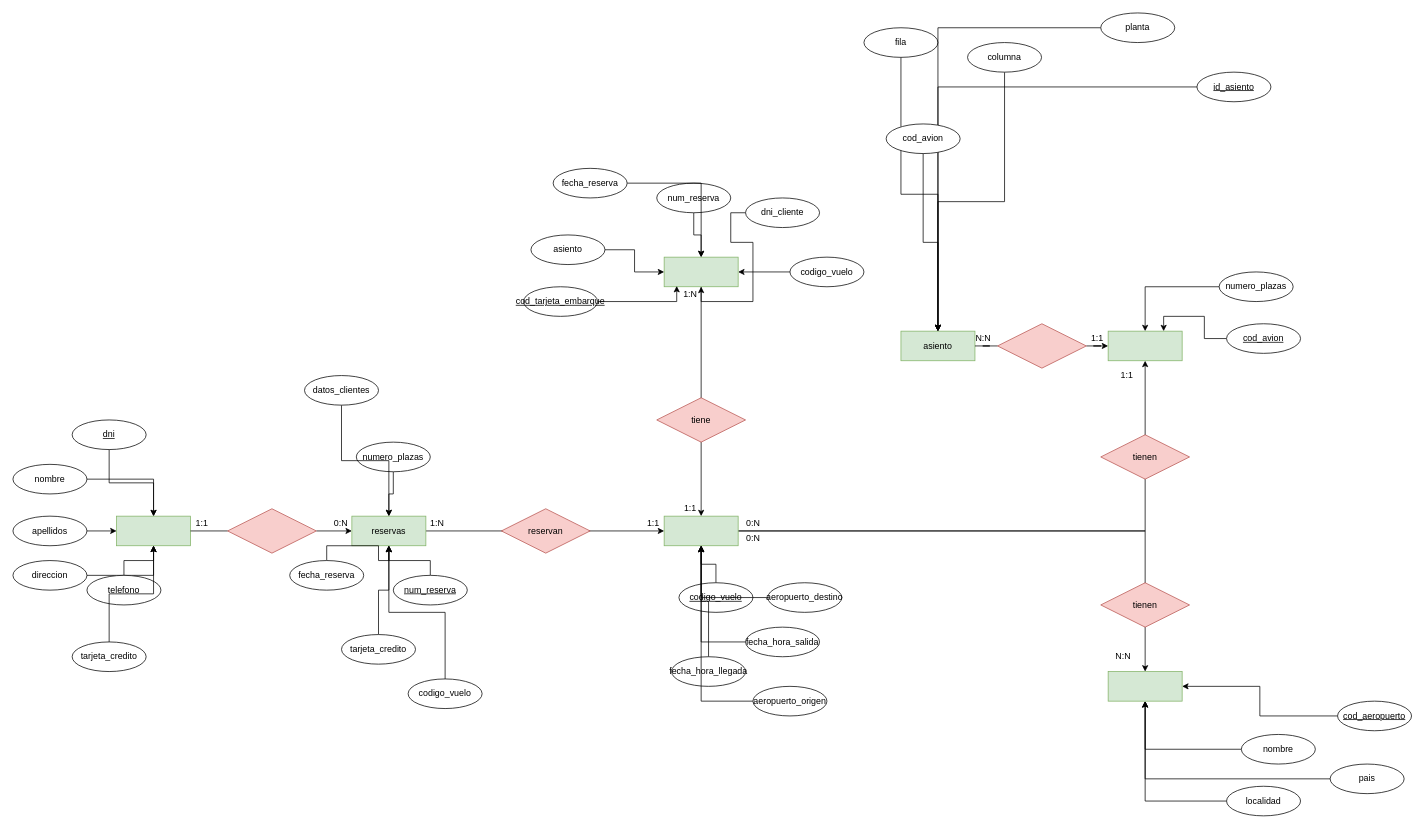
This 1425x829 diagram has some shape labels left out. The shapes that lost their labels are listed below. From the top down, each one's centre as x and y in pixels, then its label:
At (x=700, y=271): "tarjeta de embarque".
At (x=1041, y=345): "pertenece".
At (x=1144, y=345): "aviones".
At (x=153, y=530): "clientes".
At (x=271, y=530): "hacen".
At (x=700, y=530): "vuelos".
At (x=1144, y=686): "aeropuertos".
